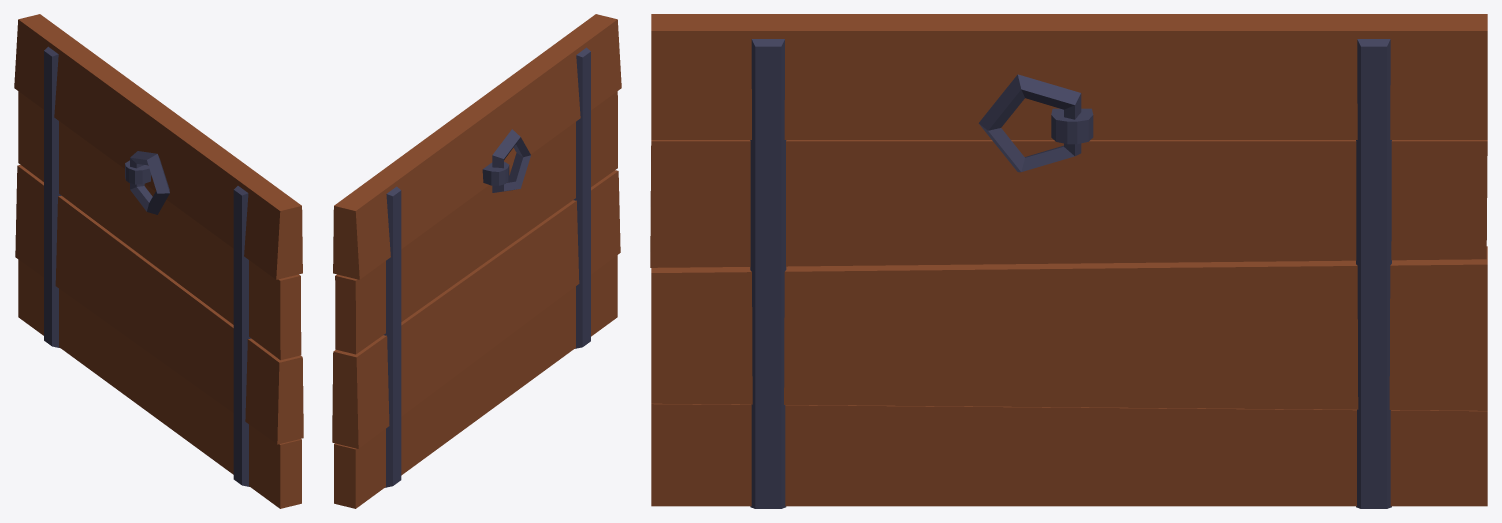
Rendered from door.fbx.
3 views of the same model, side by side, from view 1: azimuth 30°, elevation 25°; view 2: azimuth 150°, elevation 25°; view 3: azimuth 270°, elevation 25° (orthographic). The views are drawn at different scales.
Parts seen in each view (by area): view 1: Door; view 2: Door; view 3: Door.
Boxes of the visible parts, <box> form: Door: <box>14,14,303,508</box>; Door: <box>332,14,621,508</box>; Door: <box>650,14,1487,508</box>.
Bounding box in the file's own units: 20.88 × 97.58 × 155.
